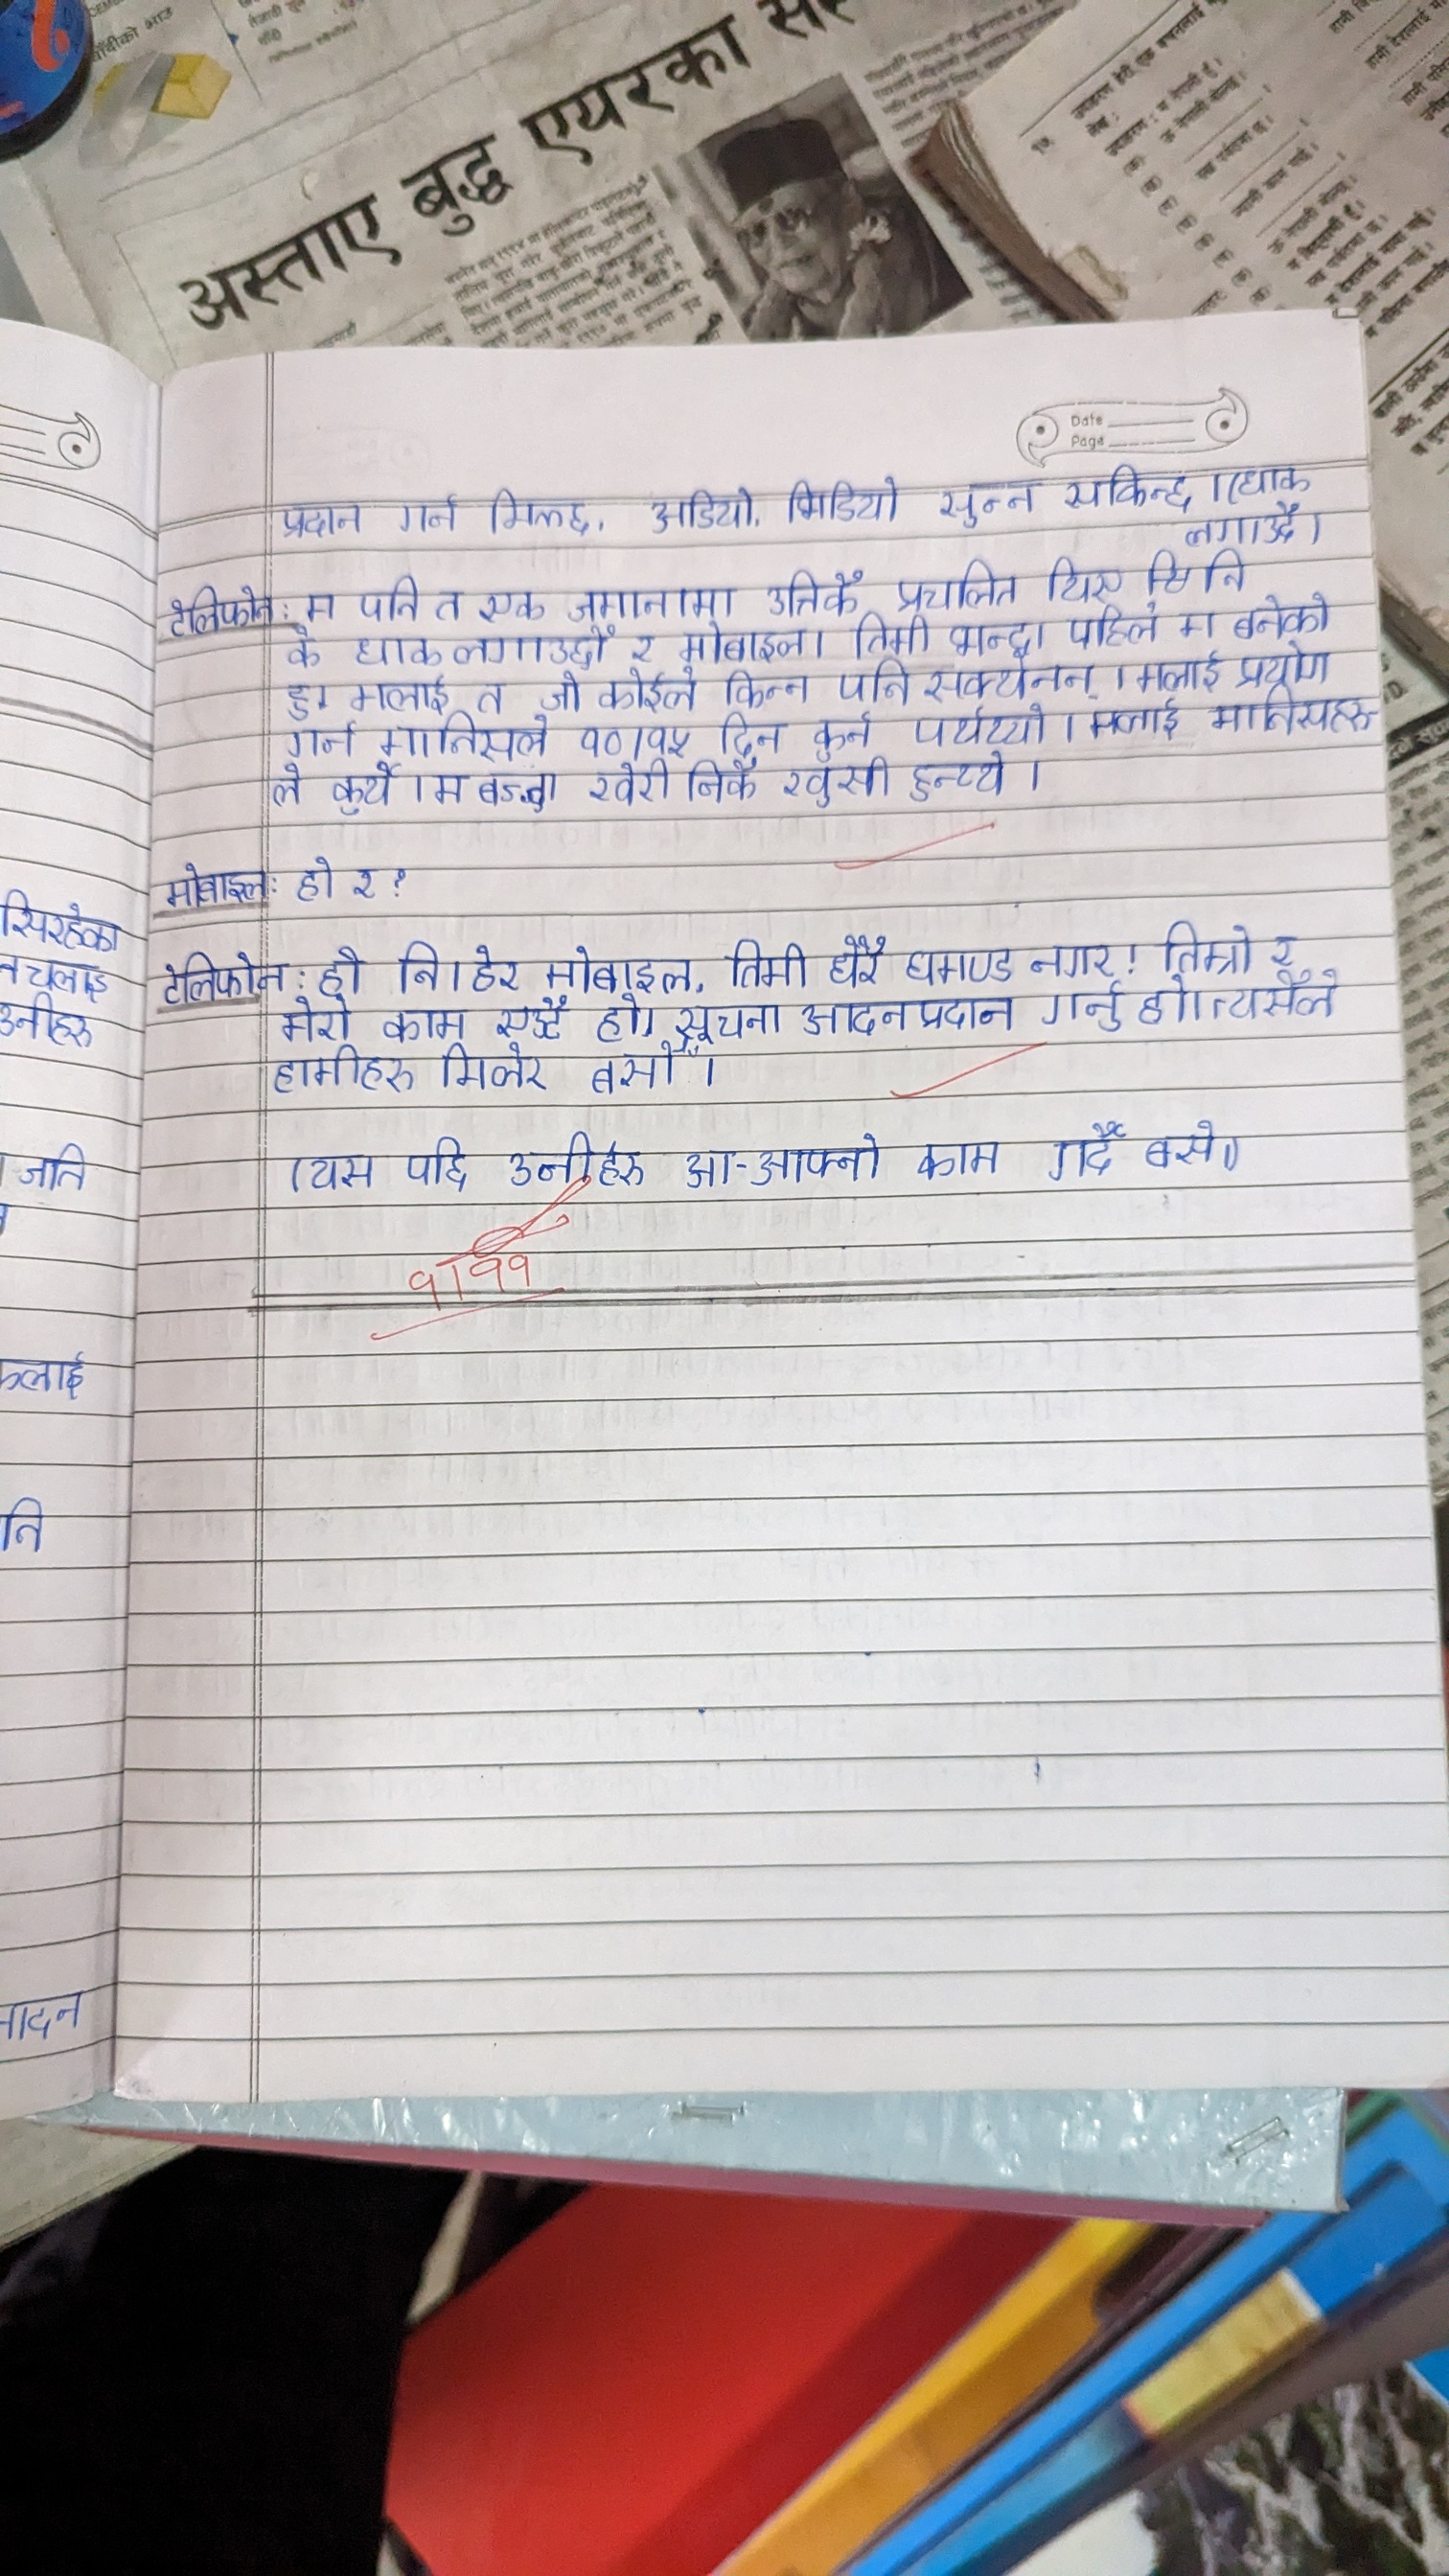text: (502, 1131, 653, 1198), (801, 996, 1021, 1040), (932, 460, 1047, 534), (481, 476, 607, 541), (538, 945, 704, 993), (778, 471, 913, 529), (752, 1132, 888, 1189), (924, 658, 1102, 701), (640, 479, 763, 541), (1207, 699, 1376, 743), (455, 626, 616, 672), (563, 579, 736, 621), (1037, 1108, 1125, 1187), (267, 1049, 419, 1095), (159, 580, 280, 637), (1056, 464, 1198, 511), (888, 556, 1016, 609), (1210, 977, 1346, 1026), (379, 718, 548, 757), (909, 750, 1008, 814), (1139, 1102, 1224, 1177), (156, 952, 287, 998), (1148, 918, 1254, 973), (400, 1125, 476, 1201), (589, 1047, 706, 1097), (784, 761, 895, 810), (759, 563, 863, 614), (895, 943, 1016, 987), (157, 860, 271, 906), (1042, 982, 1134, 1039), (913, 708, 1049, 745), (911, 1131, 1001, 1185), (1062, 602, 1162, 649), (1230, 594, 1338, 639), (676, 625, 809, 660), (301, 1136, 379, 1196), (1079, 702, 1189, 745), (439, 1049, 543, 1093), (1042, 547, 1123, 602), (389, 483, 465, 541), (265, 497, 363, 541), (1235, 642, 1332, 686), (725, 934, 809, 985), (476, 768, 564, 816), (679, 1131, 741, 1198), (329, 763, 405, 816), (1026, 936, 1123, 977), (350, 672, 451, 711), (672, 1001, 782, 1037), (589, 761, 672, 807), (598, 674, 704, 709), (720, 669, 819, 706), (384, 1000, 467, 1044), (833, 660, 913, 706), (685, 761, 763, 807), (1180, 515, 1304, 543), (1141, 975, 1196, 1037), (1139, 653, 1221, 694), (357, 568, 419, 621), (826, 932, 888, 985), (1235, 455, 1311, 497), (495, 998, 566, 1042), (280, 1001, 359, 1040), (465, 941, 522, 994), (847, 617, 931, 653), (809, 711, 878, 754), (389, 936, 444, 989), (315, 943, 370, 994), (294, 847, 340, 908), (947, 621, 1033, 653), (350, 637, 444, 665), (717, 715, 784, 754), (476, 587, 547, 623), (294, 575, 343, 625), (593, 996, 642, 1042), (1200, 550, 1249, 594), (288, 727, 361, 755), (267, 763, 308, 812), (538, 674, 587, 711), (287, 626, 324, 672), (646, 722, 692, 757), (352, 853, 380, 909), (1177, 602, 1217, 640), (433, 768, 467, 814), (582, 720, 623, 757), (472, 676, 510, 715), (430, 580, 465, 619), (1267, 927, 1300, 966), (285, 683, 315, 724), (628, 628, 655, 663)
